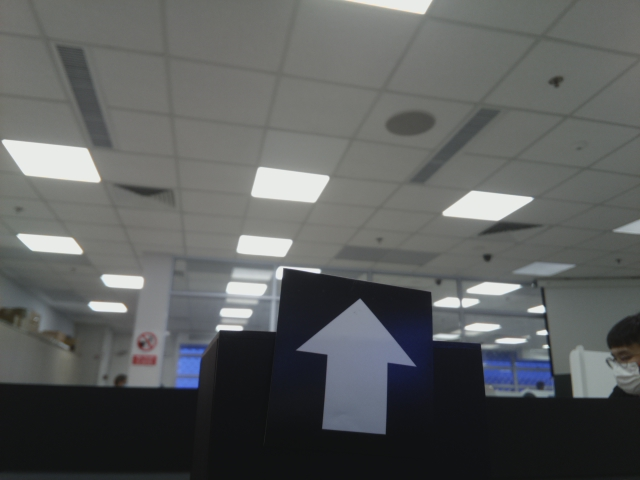up: (299, 278, 420, 451)
